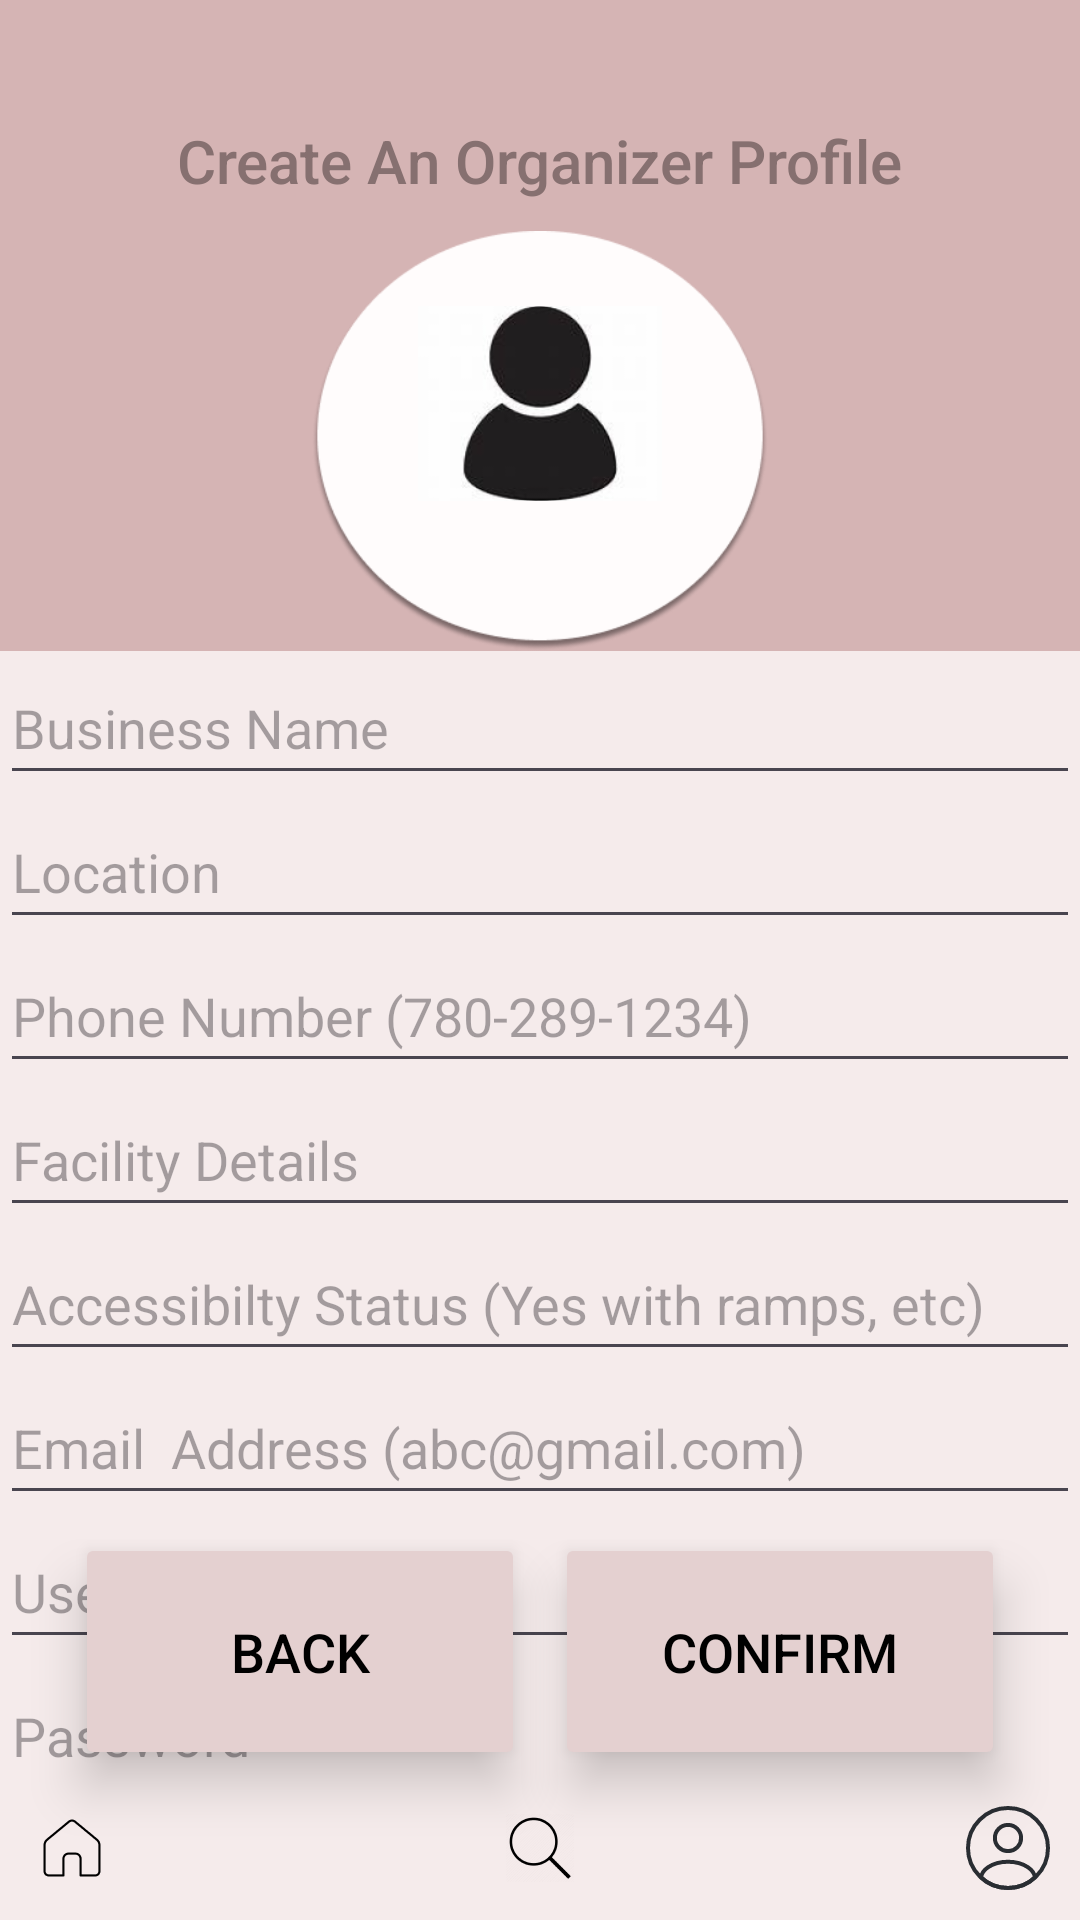

Named icons in this screenshot (1080 x 1920) and their bounding boxes, (x1,y1,x2,y2):
profile tiny: (966,1806,1050,1890)
